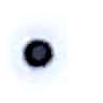cancer: (8, 22, 77, 83)
